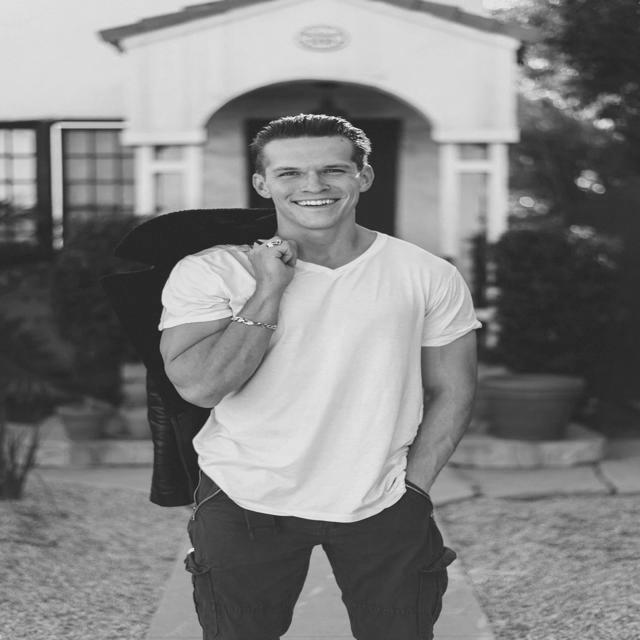Happiness: (255, 130, 373, 232)
